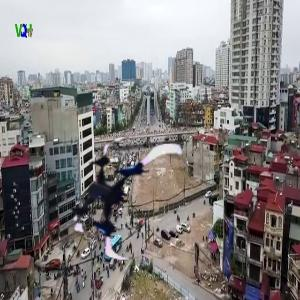drone: (54, 134, 185, 265)
